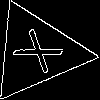X: (11, 28, 74, 82)
